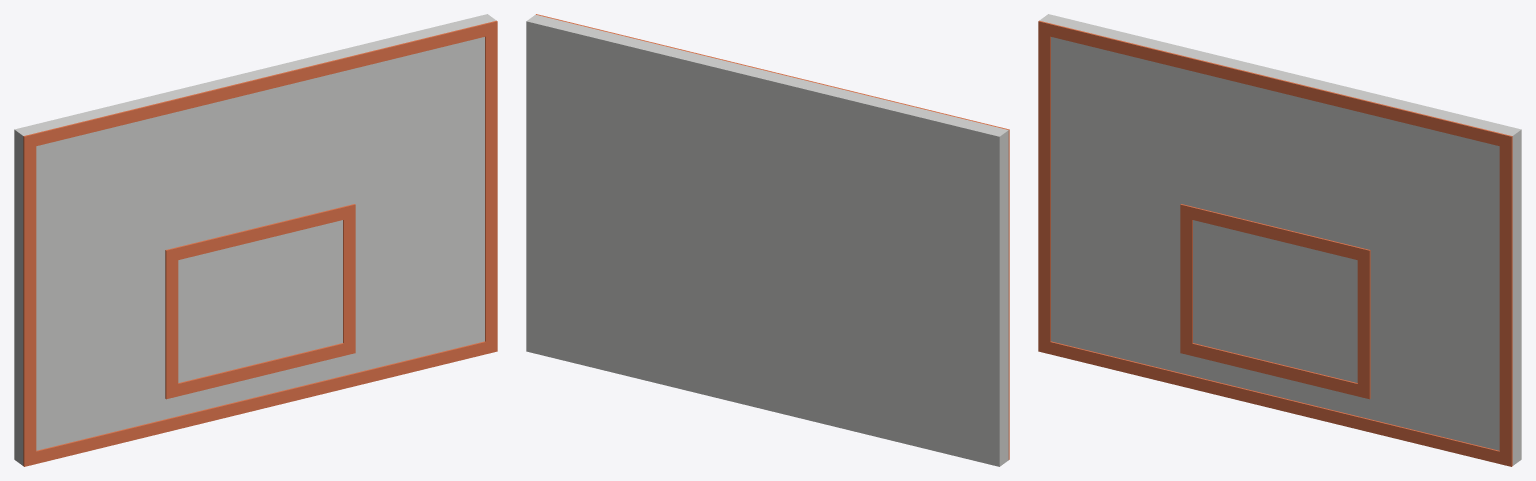
The model's file is HoopBackboard.glb.
3 renders of one model, left to right at view 1: azimuth 30°, elevation 25°; view 2: azimuth 150°, elevation 25°; view 3: azimuth 330°, elevation 25°, orthographic.
Visible parts, largest first — view 1: HoopBackboard; view 2: HoopBackboard; view 3: HoopBackboard.
Part boxes in pixels (x1=…): HoopBackboard: x1=14, y1=14, x2=497, y2=466; HoopBackboard: x1=526, y1=14, x2=1009, y2=466; HoopBackboard: x1=1038, y1=14, x2=1521, y2=466.
Size of the model in its own units: 0.6 by 0.4 by 0.022.
